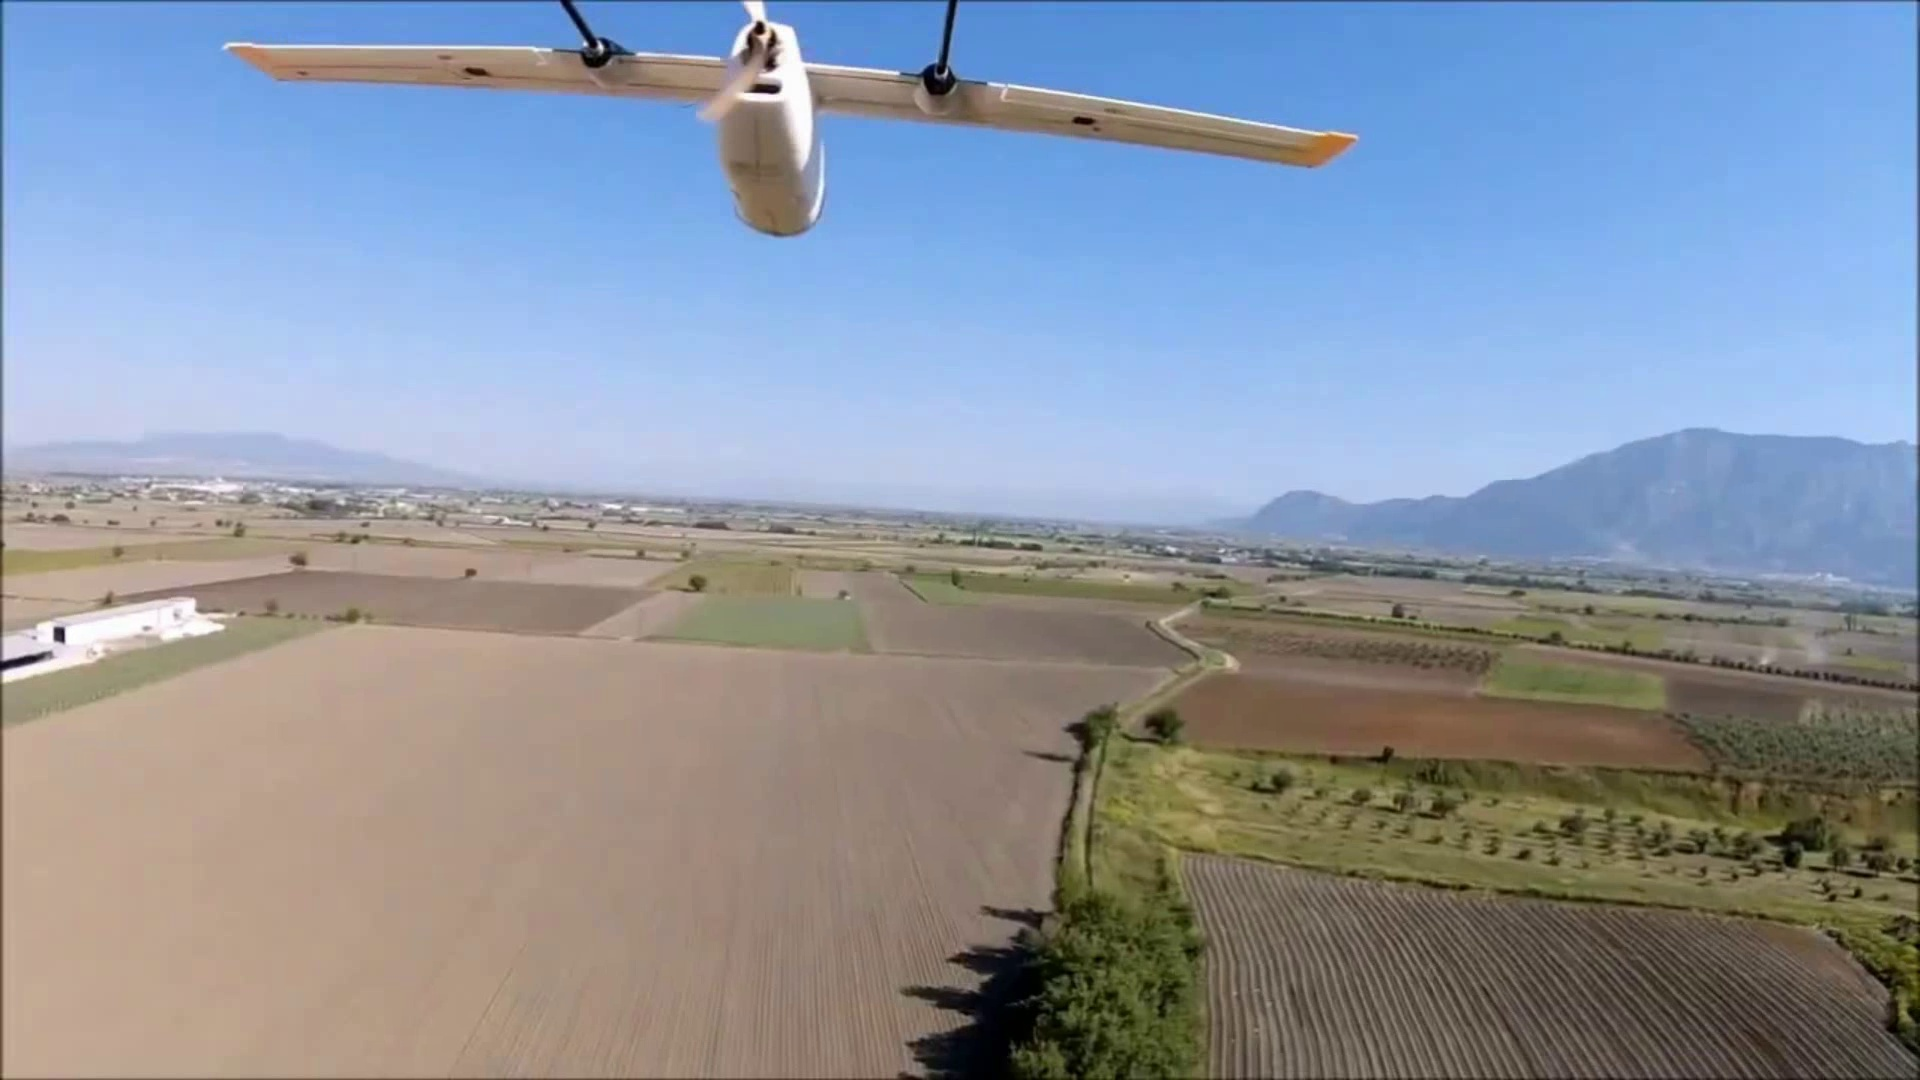airplane: (227, 5, 1353, 237)
